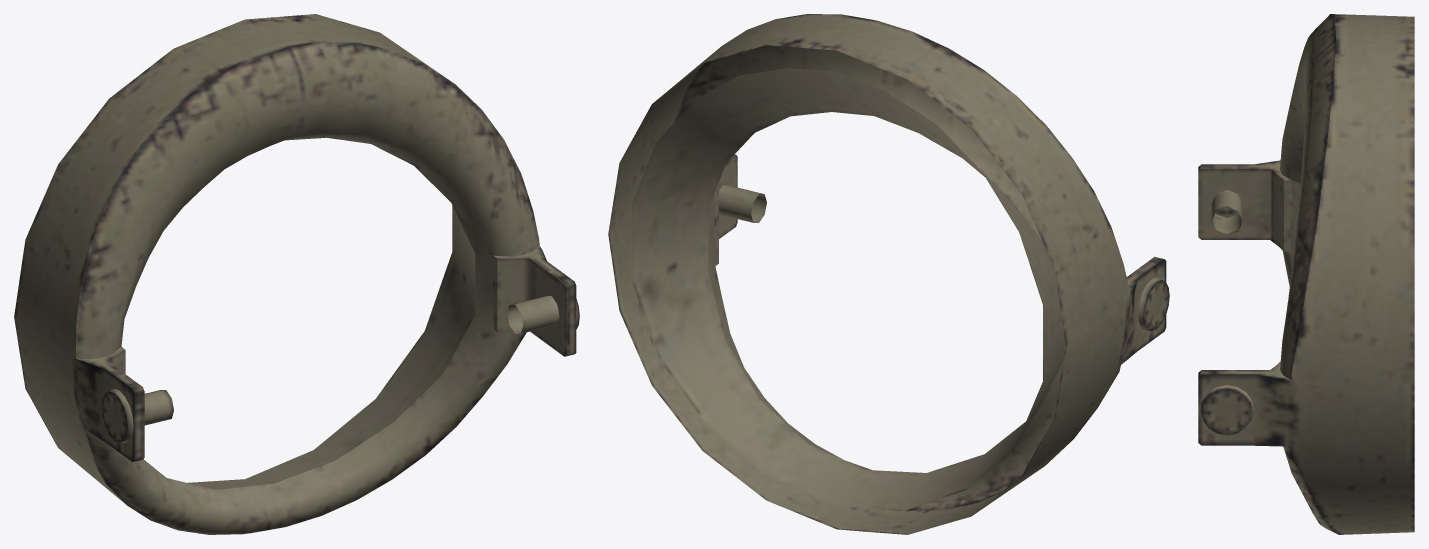
File: Turret_01.glb
3 renders of one model, left to right at view 1: azimuth 30°, elevation 25°; view 2: azimuth 150°, elevation 25°; view 3: azimuth 270°, elevation 25°, orthographic. The views are drawn at different scales.
Parts seen in each view (by area): view 1: set_0_group_0; view 2: set_0_group_0; view 3: set_0_group_0.
Boxes of the visible parts, left/top/right/bottom form: set_0_group_0: left=14, top=14, right=579, bottom=534; set_0_group_0: left=608, top=14, right=1169, bottom=534; set_0_group_0: left=1198, top=14, right=1414, bottom=534.
Size of the model in its own units: 1.2 by 1.2 by 0.4956.
1 material, 1 textured.
